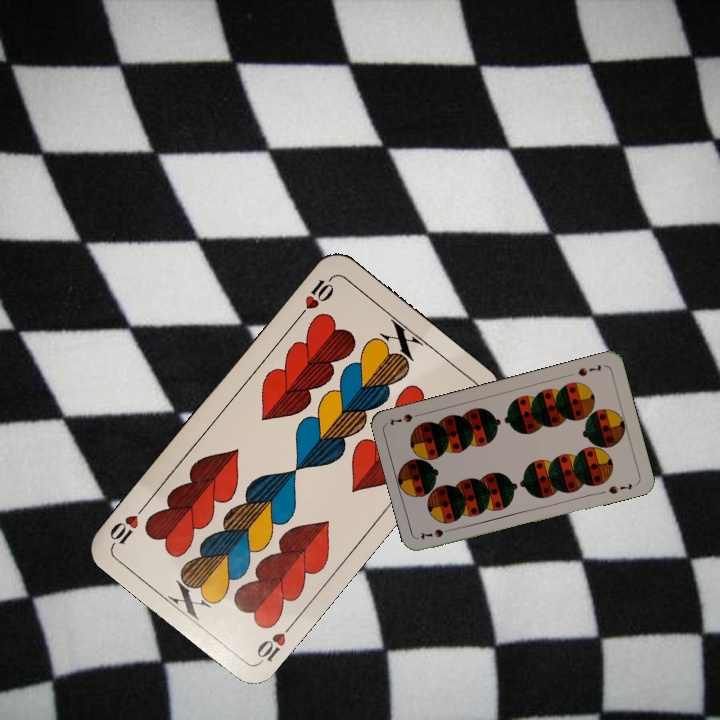H10: (252, 617, 298, 666), (293, 272, 337, 322)
S7: (417, 524, 456, 542), (573, 360, 604, 379)
